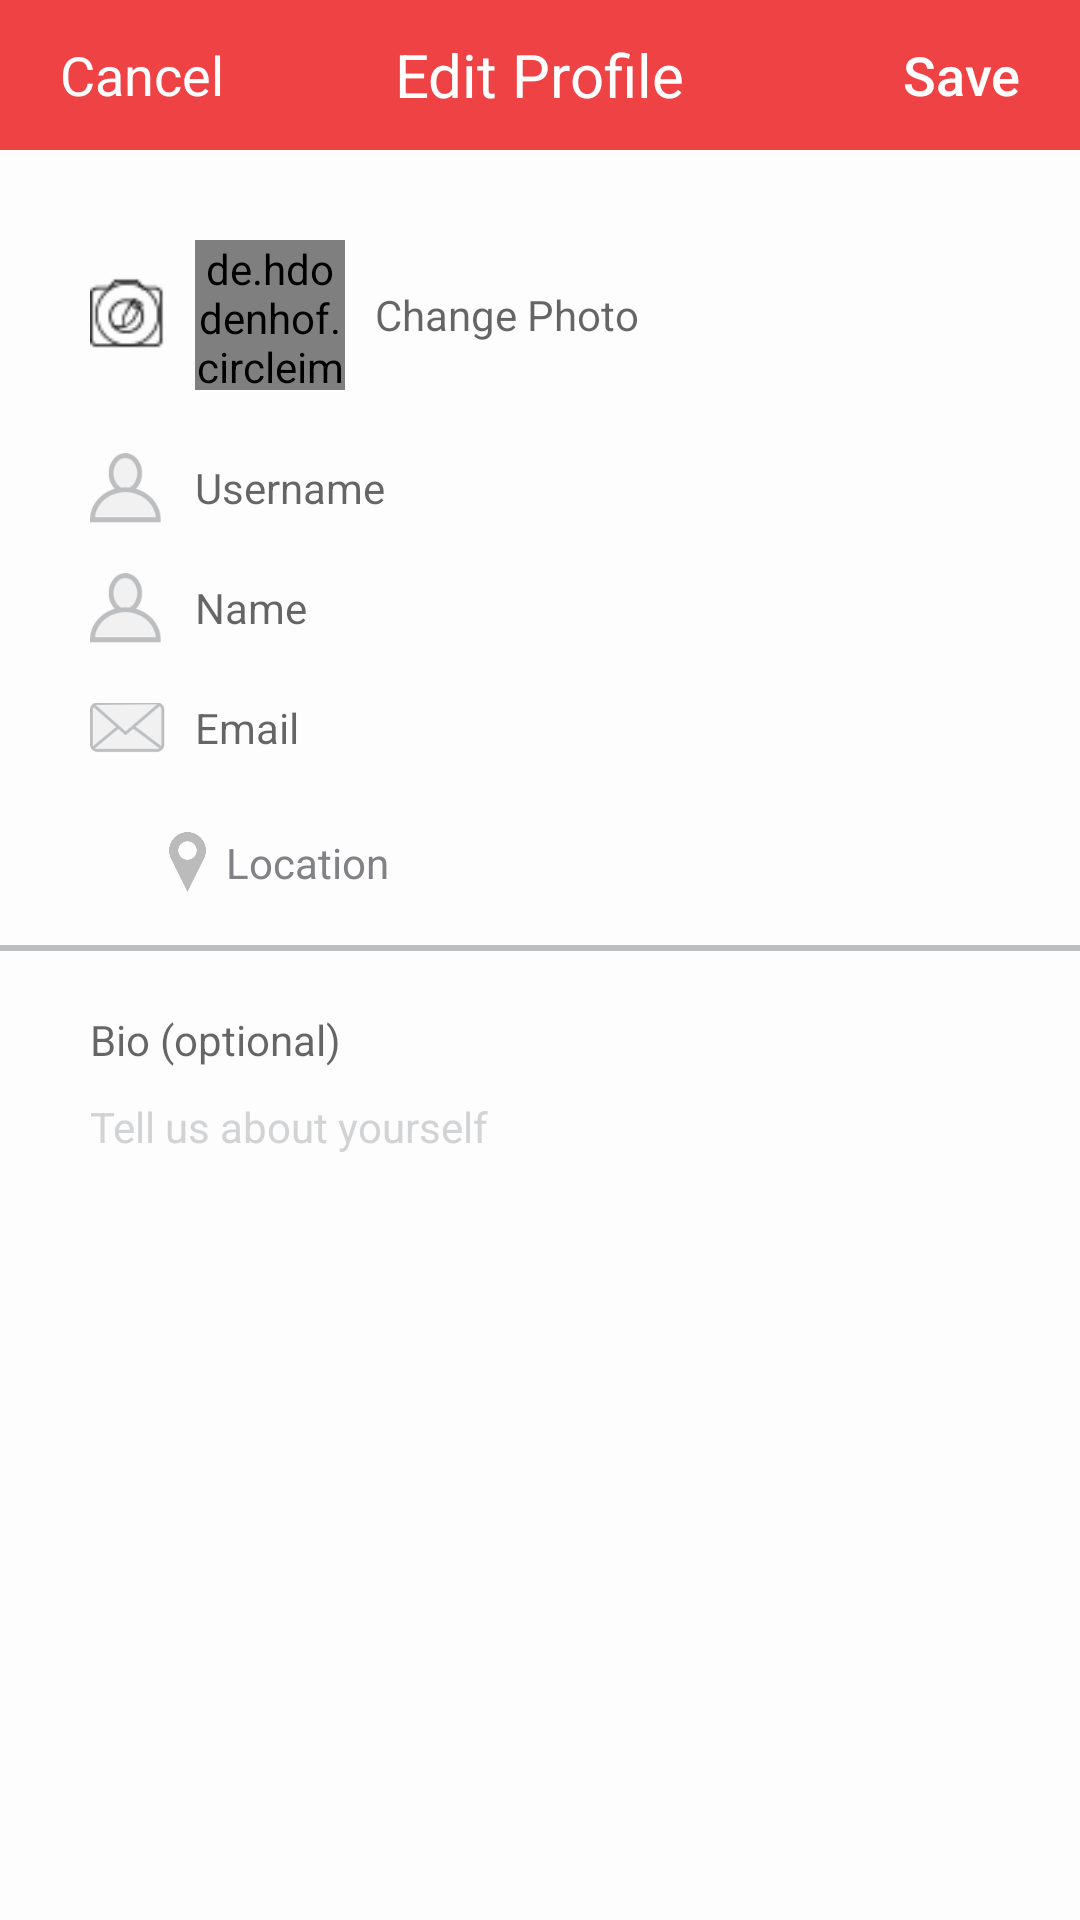

Where to tap for icons on this 1080×1920 app screen, as point (x, y):
cam: point (126, 313)
